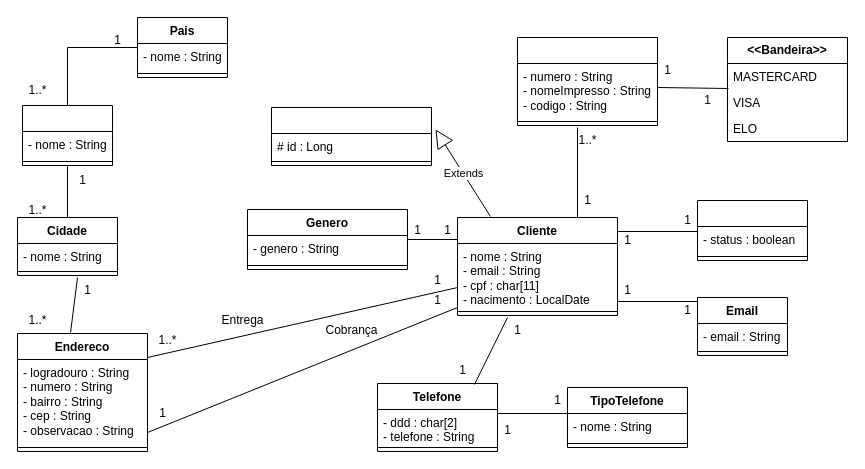
Image size: 865x469. Some labels were removed from this diagram. The box of each missing label's shape, as (x1, y1, x2, y2) in pixels:
Ativo: (696, 200, 808, 260)
Cartao: (516, 36, 658, 126)
Estado: (22, 104, 112, 166)
idDominio: (270, 106, 432, 166)
